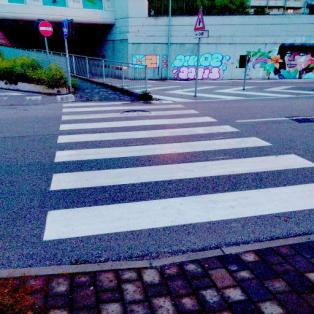Paso de Cebra: (46, 134, 314, 194), (57, 100, 208, 121)
